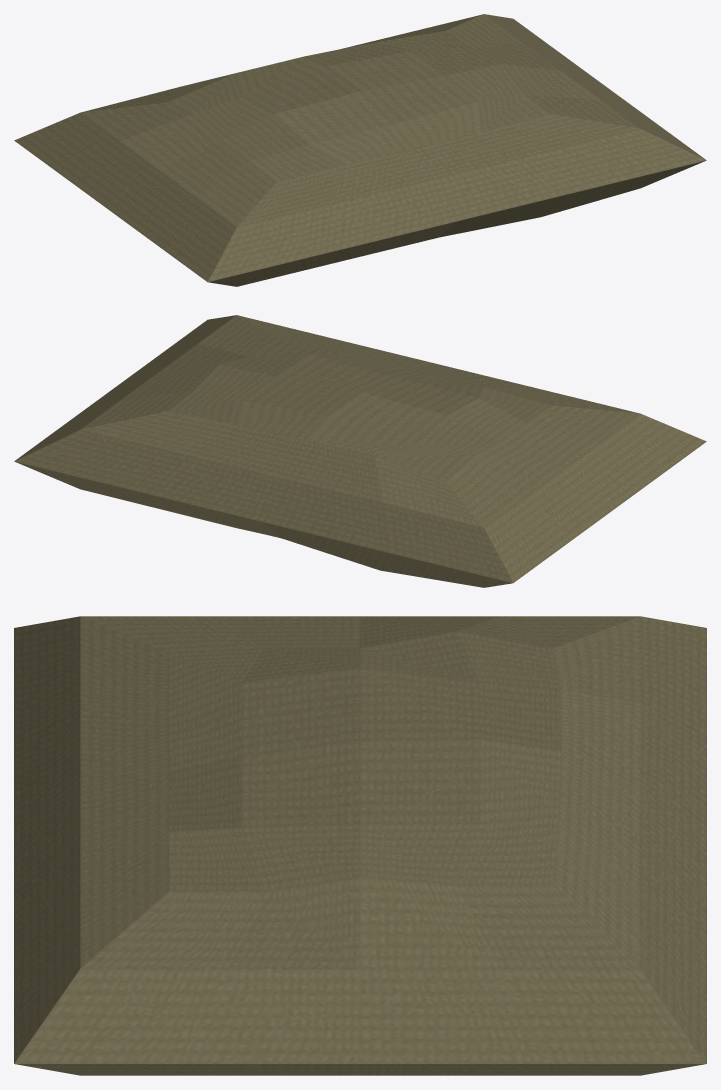
Rendered from SandBag.fbx.
3 views of the same model, one above another, from view 1: azimuth 30°, elevation 25°; view 2: azimuth 150°, elevation 25°; view 3: azimuth 270°, elevation 25° (orthographic). The views are drawn at different scales.
Parts seen in each view (by area): view 1: SandBag; view 2: SandBag; view 3: SandBag.
Boxes of the visible parts, left/top/right/bottom form: SandBag: left=14, top=14, right=706, bottom=286; SandBag: left=14, top=315, right=706, bottom=587; SandBag: left=14, top=616, right=706, bottom=1075.
Bounding box in the file's own units: 298 × 63.94 × 200.
